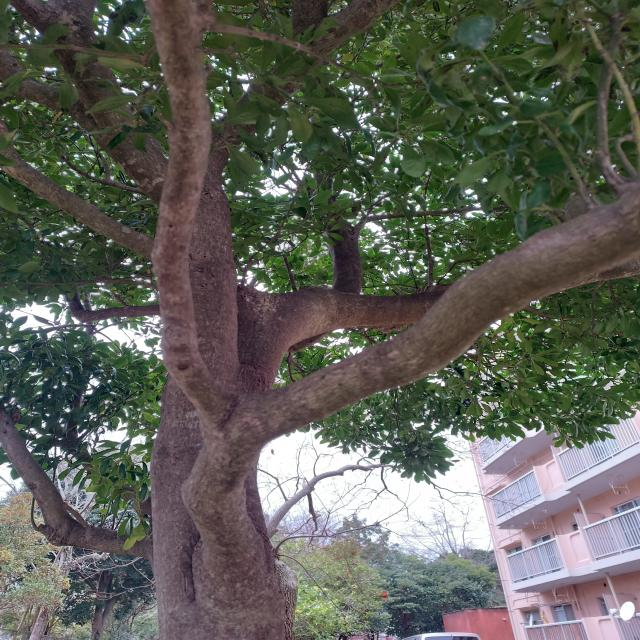Branch: (181, 187, 640, 612), (148, 4, 231, 428), (241, 282, 437, 401)
Twig: (1, 414, 150, 560)
